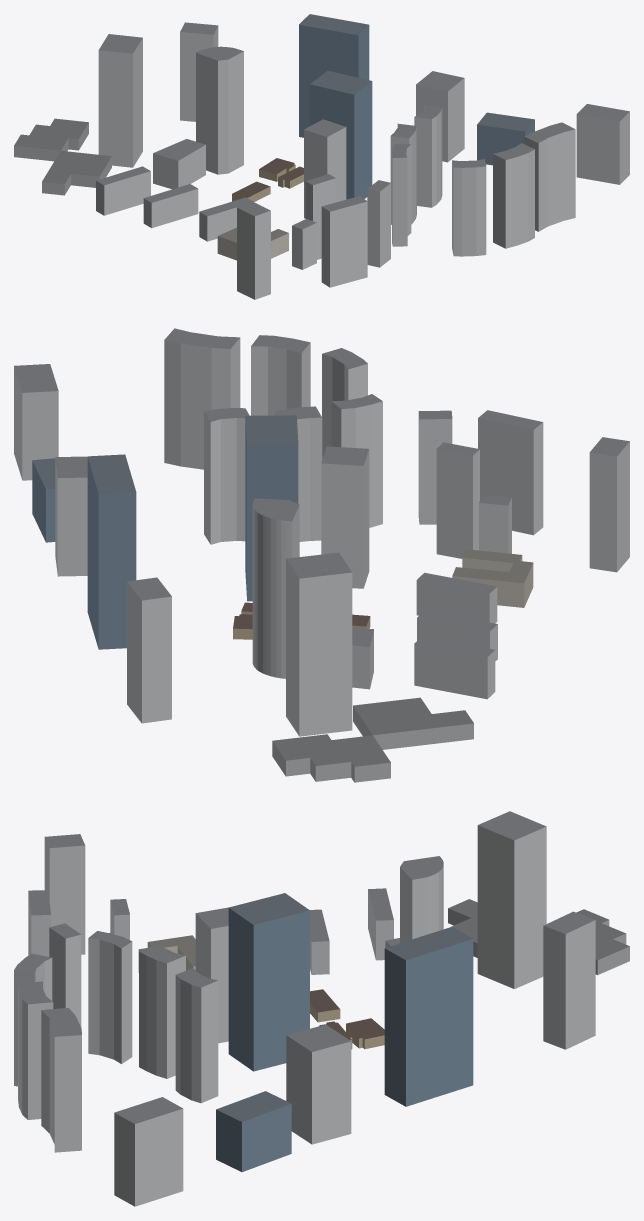
Rendered from tile_8_7.glb.
The picture shows the model from 3 angles, top to bottom: view 1: azimuth 30°, elevation 25°; view 2: azimuth 150°, elevation 25°; view 3: azimuth 270°, elevation 25°; orthographic projection. The views are drawn at different scales.
Visible parts, largest first — view 1: HP-w206160228, HP-w447024817, HP-w447024799, HP-w745677072, HP-w293563945, HP-w293563946, HP-w447126697, HP-w447024806, HP-w293563947, HP-w447024818, HP-w185831247, HP-w1455832162 (+18 smaller); view 2: HP-w447024817, HP-w745677072, HP-w293563945, HP-w206160228, HP-w447024806, HP-w142741996, HP-w1455832162, HP-w293563953, HP-w447024799, HP-w447024818, HP-w447024816, HP-w520214805 (+15 smaller); view 3: HP-w745677072, HP-w447024799, HP-w447024817, HP-w185831247, HP-w142741996, HP-w447126697, HP-w293563951, HP-w293563945, HP-w293563953, HP-w447126698, HP-w293563952, HP-w447024818 (+14 smaller).
Part boxes in pixels (bbox=[...]): HP-w206160228: bbox=[196, 46, 243, 174]; HP-w447024817: bbox=[98, 34, 142, 167]; HP-w447024799: bbox=[309, 70, 372, 199]; HP-w745677072: bbox=[299, 14, 369, 137]; HP-w293563945: bbox=[524, 122, 575, 231]; HP-w293563946: bbox=[493, 143, 534, 248]; HP-w447126697: bbox=[576, 104, 629, 184]; HP-w447024806: bbox=[321, 196, 367, 287]; HP-w293563947: bbox=[452, 159, 486, 256]; HP-w447024818: bbox=[237, 202, 270, 299]; HP-w185831247: bbox=[416, 71, 464, 162]; HP-w1455832162: bbox=[304, 119, 346, 218]; HP-w447024817: bbox=[286, 552, 352, 736]; HP-w745677072: bbox=[87, 454, 136, 649]; HP-w293563945: bbox=[164, 328, 240, 469]; HP-w206160228: bbox=[252, 498, 299, 678]; HP-w447024806: bbox=[478, 410, 543, 535]; HP-w142741996: bbox=[127, 577, 171, 723]; HP-w1455832162: bbox=[321, 446, 369, 588]; HP-w293563953: bbox=[204, 408, 249, 544]; HP-w447024799: bbox=[245, 415, 298, 601]; HP-w447024818: bbox=[589, 437, 629, 572]; HP-w447024816: bbox=[436, 442, 479, 558]; HP-w520214805: bbox=[272, 734, 390, 782]; HP-w745677072: bbox=[384, 927, 473, 1106]; HP-w447024799: bbox=[228, 893, 309, 1071]; HP-w447024817: bbox=[477, 811, 546, 988]; HP-w185831247: bbox=[286, 1024, 351, 1144]; HP-w142741996: bbox=[543, 911, 595, 1049]; HP-w447126697: bbox=[114, 1097, 183, 1206]; HP-w293563951: bbox=[88, 931, 132, 1063]; HP-w293563945: bbox=[41, 1008, 81, 1152]; HP-w293563953: bbox=[175, 968, 218, 1103]; HP-w447126698: bbox=[216, 1091, 291, 1172]; HP-w293563952: bbox=[139, 944, 185, 1078]; HP-w447024818: bbox=[44, 834, 85, 954].
Size of the model in its own units: 570 by 135 by 507.
